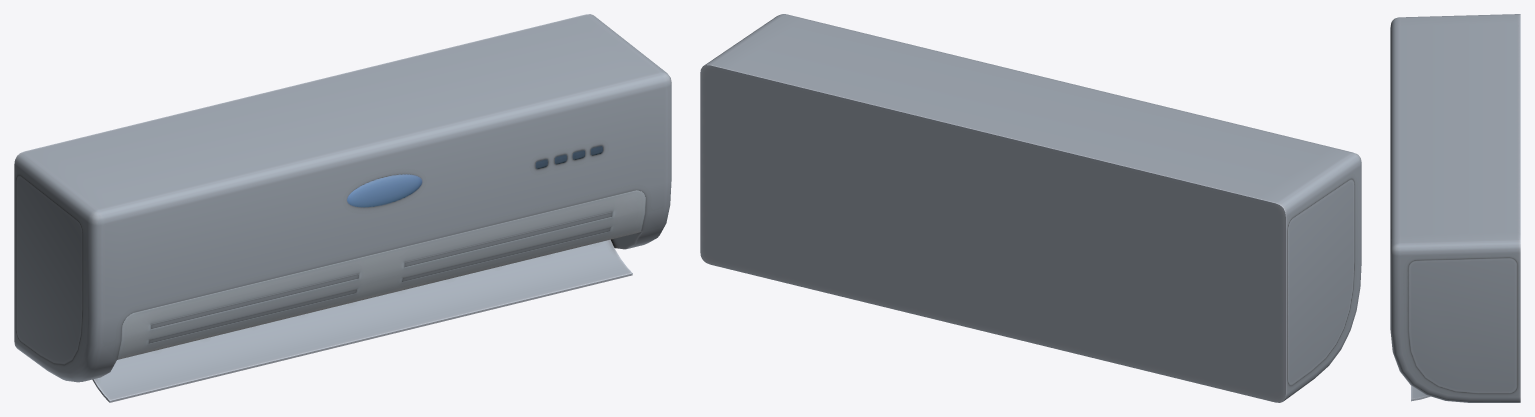
File: OfficeAirConditioner03.FBX
The picture shows the model from 3 angles, left to right: view 1: azimuth 30°, elevation 25°; view 2: azimuth 150°, elevation 25°; view 3: azimuth 270°, elevation 25°; orthographic projection. The views are drawn at different scales.
Visible parts, largest first — view 1: OfficeAirConditioner03; view 2: OfficeAirConditioner03; view 3: OfficeAirConditioner03.
Boxes of the visible parts, box(x1,y1,x2,y2) form: OfficeAirConditioner03: box(14, 14, 671, 402); OfficeAirConditioner03: box(700, 14, 1361, 402); OfficeAirConditioner03: box(1390, 14, 1520, 402).
Size of what is drawn, in the model's own units: 1.19 by 0.4042 by 0.2808.
